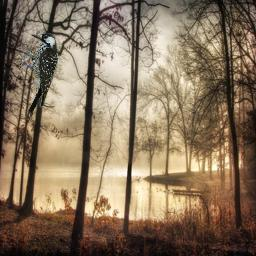Woodpecker: (20, 33, 58, 120)
